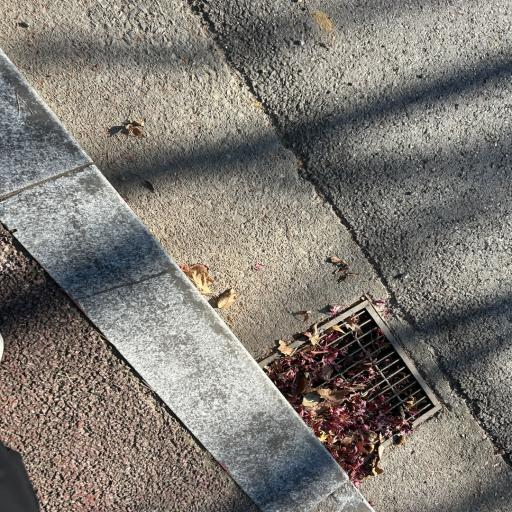debris: (376, 410, 403, 430), (348, 317, 362, 334), (407, 399, 417, 414), (291, 394, 297, 402), (380, 395, 384, 402)
drain: (266, 310, 435, 470)
